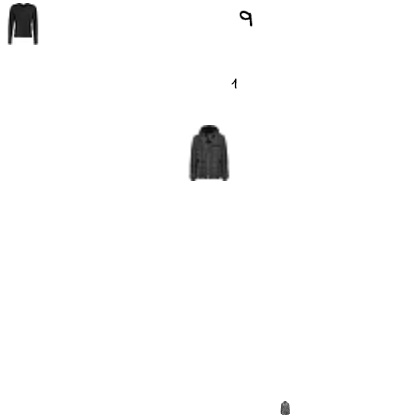1: (228, 76, 242, 90)
9: (235, 6, 257, 28)
Coat: (181, 125, 237, 181), (278, 401, 292, 415)
Pullover: (2, 3, 44, 45)
